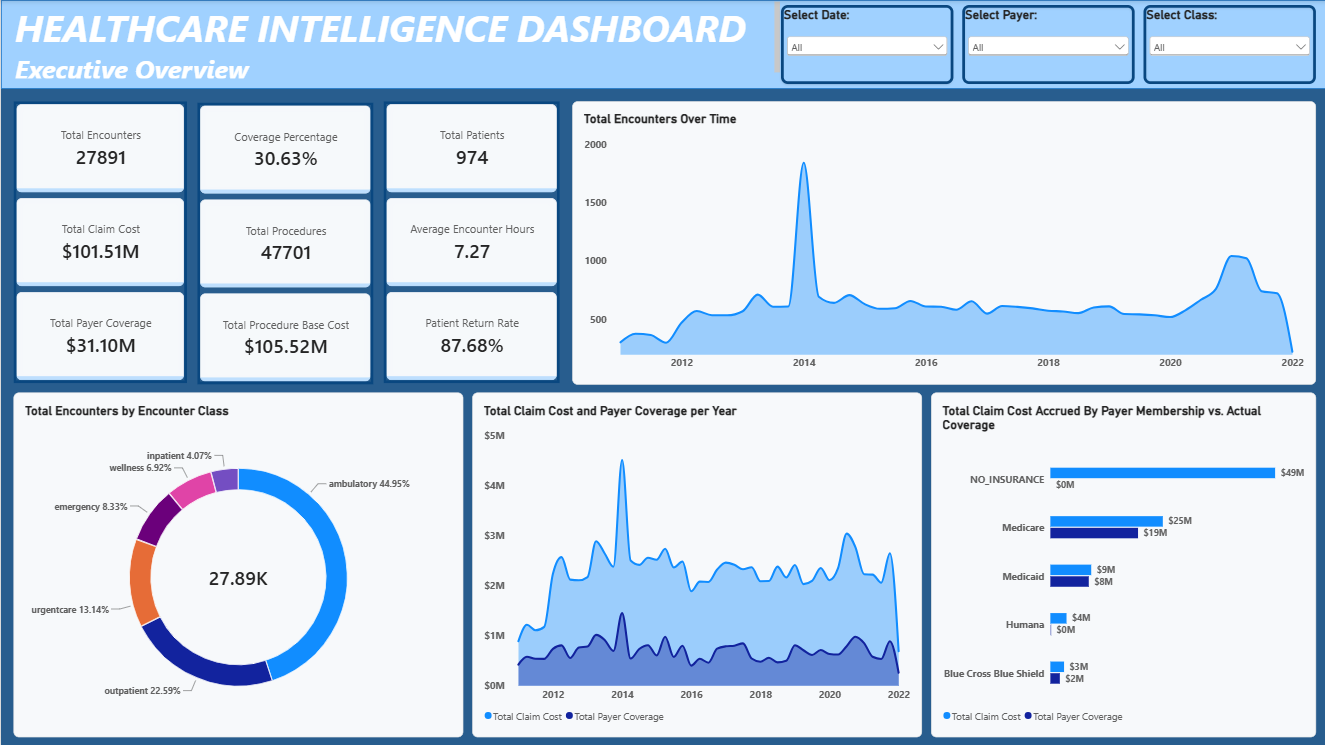

The dashboard page shown, as its layout file describes it:
{"tool":"powerbi","page":{"name":"Executive Overview","canvas":[1920,1080],"ordinal":0},"visuals":[{"type":"shape","box":[0,0,1920.1,128.5],"z":0,"group":"g3"},{"type":"lineChart","title":"Total Encounters Over Time","fields":{"Category":["DateTable.Date.Variation.Date Hierarchy.Year","DateTable.Date.Variation.Date Hierarchy.Quarter","DateTable.Date.Variation.Date Hierarchy.Month","DateTable.Date.Variation.Date Hierarchy.Day"],"Y":["Calculations.Total Encounters"]},"box":[827,146.6,1076.7,410.8],"z":0},{"type":"textbox","box":[18.5,0,1111.5,115.3],"z":1000,"group":"g3"},{"type":"lineChart","title":"Total Claim Cost and Payer Coverage per Year","fields":{"Category":["DateTable.Date.Variation.Date Hierarchy.Year","DateTable.Date.Variation.Date Hierarchy.Quarter","DateTable.Date.Variation.Date Hierarchy.Month","DateTable.Date.Variation.Date Hierarchy.Day"],"Y":["Calculations.Total Claim Cost","Calculations.Total Payer Coverage"]},"box":[682.2,568.2,651.5,499.5],"z":1000},{"type":"group","id":"g1","title":"Group 2","box":[18.1,146.6,790.8,412.6],"z":2000},{"type":"cardVisual","fields":{"Data":["Calculations.Coverage Percentage","Calculations.Total Procedures","Calculations.Total Procedure Base Cost"]},"box":[284.1,148.4,255.2,410.8],"z":3000,"group":"g1"},{"type":"clusteredBarChart","title":"Total Claim Cost Accrued By Payer Membership vs. Actual Coverage","fields":{"Category":["hospital_analytics payers.payer_name"],"Y":["Calculations.Total Claim Cost","Calculations.Total Payer Coverage"]},"box":[1346.4,568.2,557.4,499.5],"z":3000},{"type":"group","id":"g2","title":"Group 1","box":[1129.2,7.2,774.5,114],"z":4000,"group":"g3"},{"type":"cardVisual","fields":{"Data":["Calculations.Total Encounters","Calculations.Total Claim Cost","Calculations.Total Payer Coverage"]},"box":[18.1,146.6,251.5,410.8],"z":4000,"group":"g1"},{"type":"donutChart","title":"Total Encounters by Encounter Class","fields":{"Category":["hospital_analytics encounters.encounter_class"],"Y":["Calculations.Total Encounters"]},"box":[18.1,568.2,651.5,499.5],"z":4000},{"type":"group","id":"g3","title":"Group 3","box":[0,0,1920.1,128.5],"z":5000},{"type":"slicer","title":"Select Date:","fields":{"Values":["DateTable.Year","DateTable.Quarter","DateTable.Month","DateTable.Day"]},"box":[1129.2,7.2,249.7,114],"z":5000,"group":"g2"},{"type":"slicer","title":"Select Payer:","fields":{"Values":["hospital_analytics payers.payer_name"]},"box":[1391.6,7.2,249.7,114],"z":6000,"group":"g2"},{"type":"cardVisual","fields":{"Data":["Calculations.Total Patients","Calculations.Average Hours","Calculations.Return Rate"]},"box":[553.8,146.6,255.2,410.8],"z":7000,"group":"g1"},{"type":"slicer","title":"Select Class:","fields":{"Values":["hospital_analytics encounters.encounter_class"]},"box":[1654,7.2,249.7,114],"z":9001,"group":"g2"}]}

Visuals, with their boxes in screenshot pixels (x1, y1, x2, y2), scaled from the page's 1920x1080 canvas onto the 1325x745 screenshot:
shape: locate(0, 0, 1324, 89)
"Total Encounters Over Time" lineChart: locate(571, 101, 1314, 385)
textbox: locate(13, 0, 780, 80)
"Total Claim Cost and Payer Coverage per Year" lineChart: locate(471, 392, 920, 737)
"Group 2" group: locate(12, 101, 558, 386)
cardVisual - Calculations.Coverage Percentage x Calculations.Total Procedures: locate(196, 102, 372, 386)
"Total Claim Cost Accrued By Payer Membership vs. Actual Coverage" clusteredBarChart: locate(929, 392, 1314, 737)
"Group 1" group: locate(779, 5, 1314, 84)
cardVisual - Calculations.Total Encounters x Calculations.Total Claim Cost: locate(12, 101, 186, 385)
"Total Encounters by Encounter Class" donutChart: locate(12, 392, 462, 737)
"Group 3" group: locate(0, 0, 1324, 89)
"Select Date:" slicer: locate(779, 5, 952, 84)
"Select Payer:" slicer: locate(960, 5, 1133, 84)
cardVisual - Calculations.Total Patients x Calculations.Average Hours: locate(382, 101, 558, 385)
"Select Class:" slicer: locate(1141, 5, 1314, 84)
